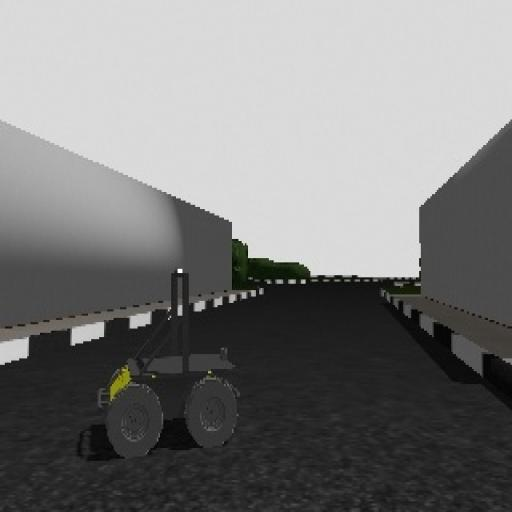huskya200: (87, 255, 254, 462)
